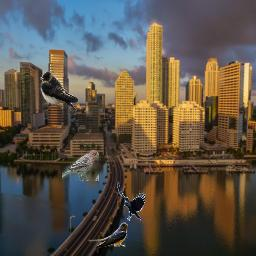Crow: (117, 181, 146, 221)
Sparrow: (62, 150, 99, 181)
Swallow: (40, 71, 78, 111), (88, 222, 128, 248)
